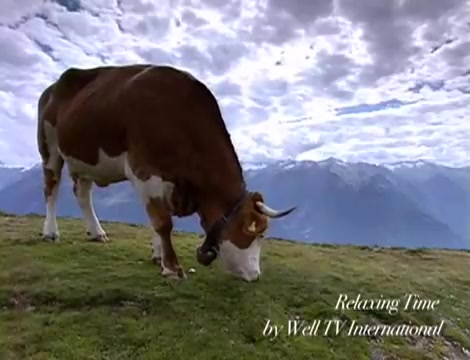cow: (38, 65, 297, 285)
